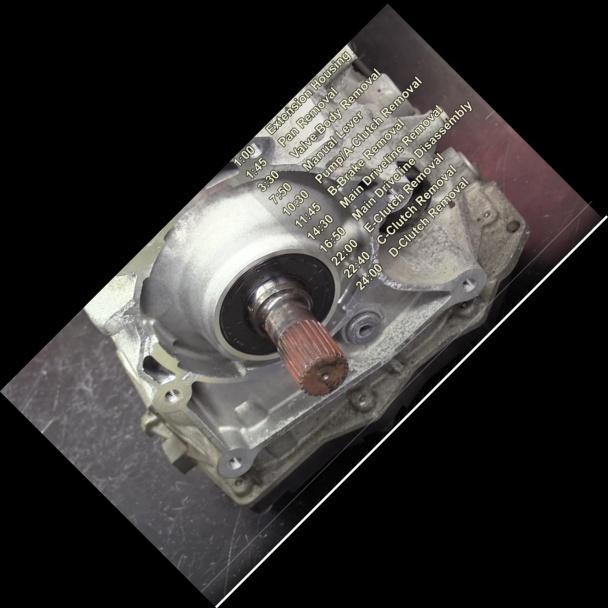hole: (157, 382, 184, 409), (457, 272, 481, 296), (225, 451, 246, 472)
